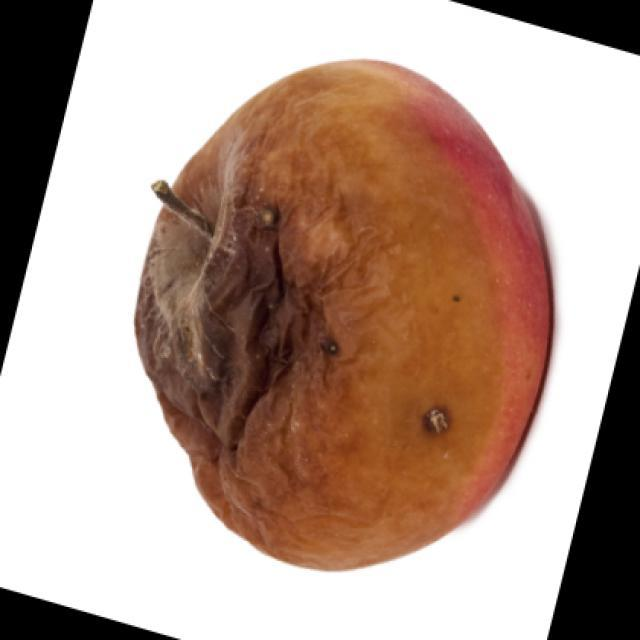Rotten: (150, 56, 583, 552)
